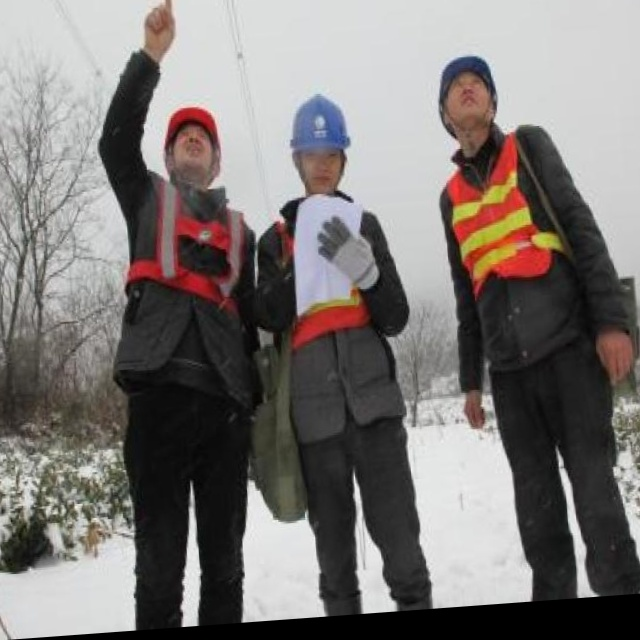Con_Chaleco: (440, 125, 564, 295)
